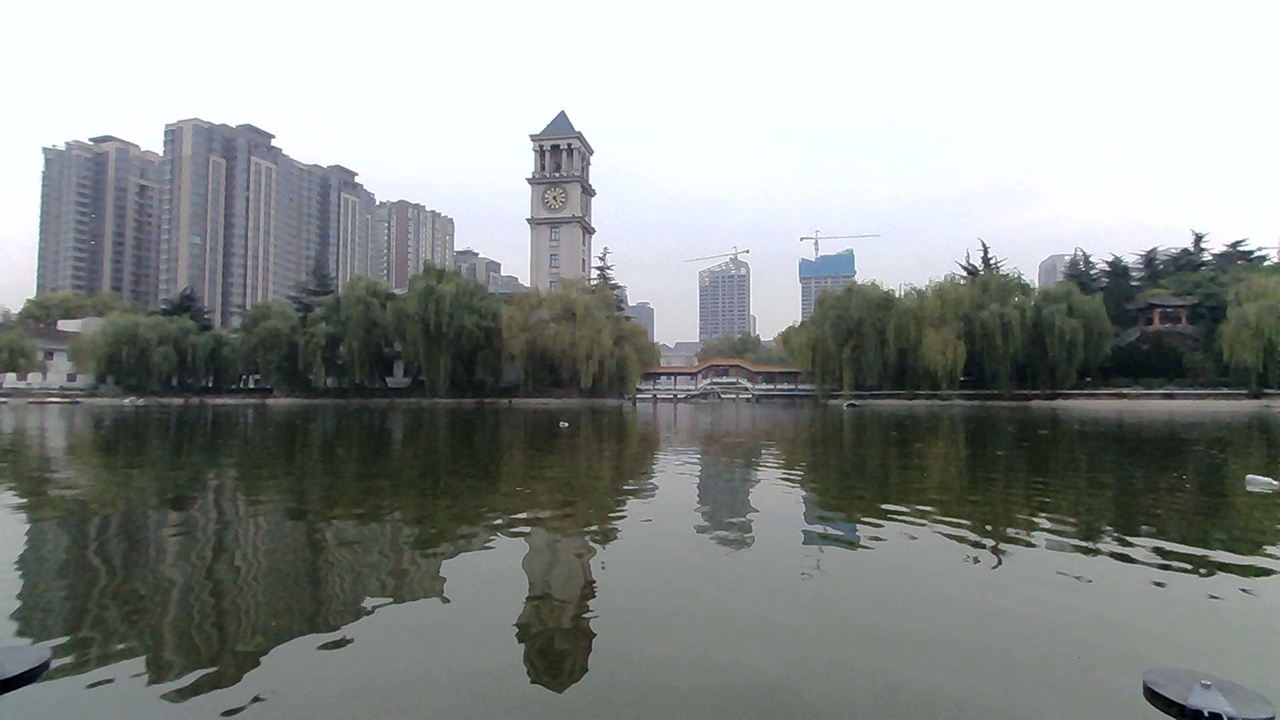bottle: (1236, 473, 1268, 494), (550, 410, 581, 431)
